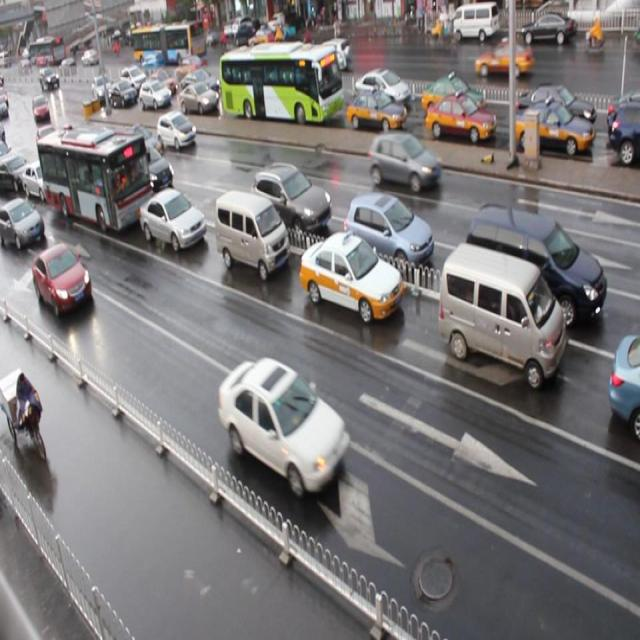car: (218, 358, 350, 497), (298, 228, 402, 322), (342, 194, 433, 278), (251, 162, 331, 234), (31, 240, 92, 318), (513, 99, 593, 157), (368, 131, 441, 194), (137, 186, 205, 251), (425, 92, 495, 142), (607, 331, 640, 436), (511, 84, 586, 129), (345, 86, 405, 133), (423, 76, 487, 120), (1, 194, 44, 250), (353, 69, 409, 111), (131, 144, 173, 195), (608, 98, 640, 160), (21, 158, 59, 202), (604, 92, 640, 137), (158, 111, 195, 152), (178, 82, 219, 116), (124, 124, 159, 163), (1, 152, 32, 193), (250, 68, 286, 103), (139, 78, 171, 113), (187, 69, 224, 98), (43, 125, 68, 159), (145, 68, 173, 96), (121, 65, 148, 93), (109, 81, 135, 109)
truck: (437, 240, 564, 388), (466, 200, 605, 330), (212, 187, 288, 280)
van: (36, 126, 154, 234), (216, 43, 340, 123)
